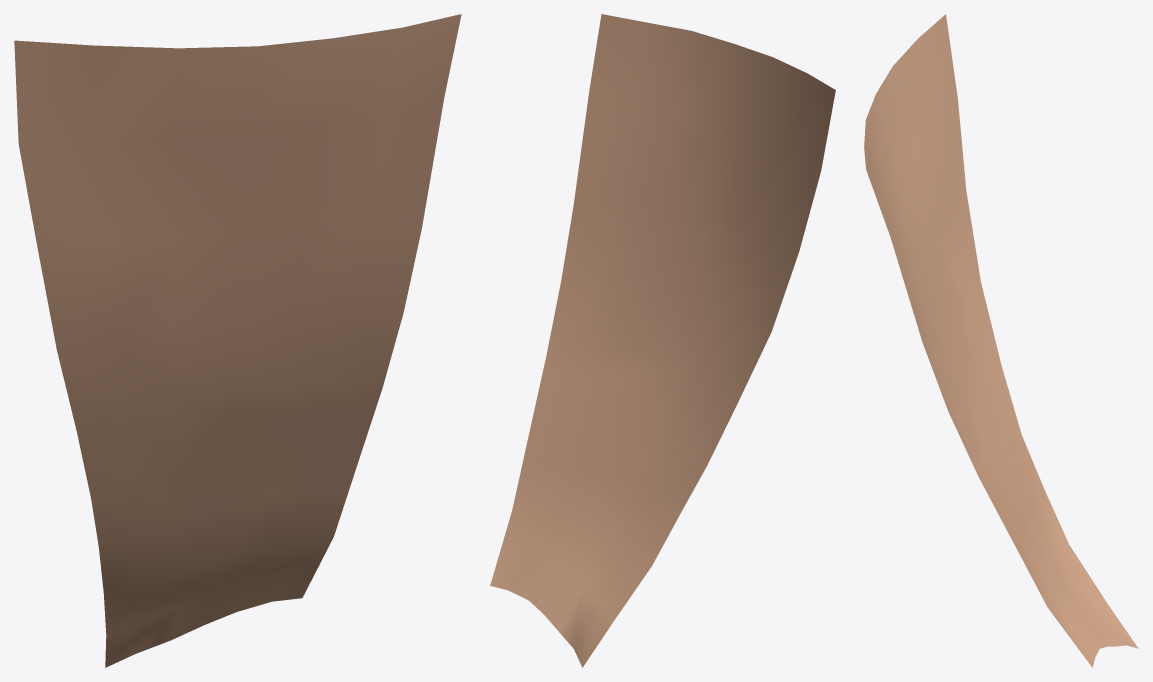
File: hypogastric-region-r.glb
The picture shows the model from 3 angles, left to right: view 1: azimuth 30°, elevation 25°; view 2: azimuth 150°, elevation 25°; view 3: azimuth 270°, elevation 25°; orthographic projection. The views are drawn at different scales.
Parts seen in each view (by area): view 1: Hypogastric region.r; view 2: Hypogastric region.r; view 3: Hypogastric region.r.
Part boxes in pixels (<box>): Hypogastric region.r: <box>14,14,461,667</box>; Hypogastric region.r: <box>490,14,835,667</box>; Hypogastric region.r: <box>864,14,1138,667</box>.
Size of the model in its own units: 0.0702 by 0.1341 by 0.06.
